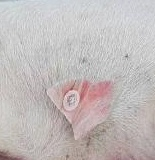text: (54, 83, 88, 118)
